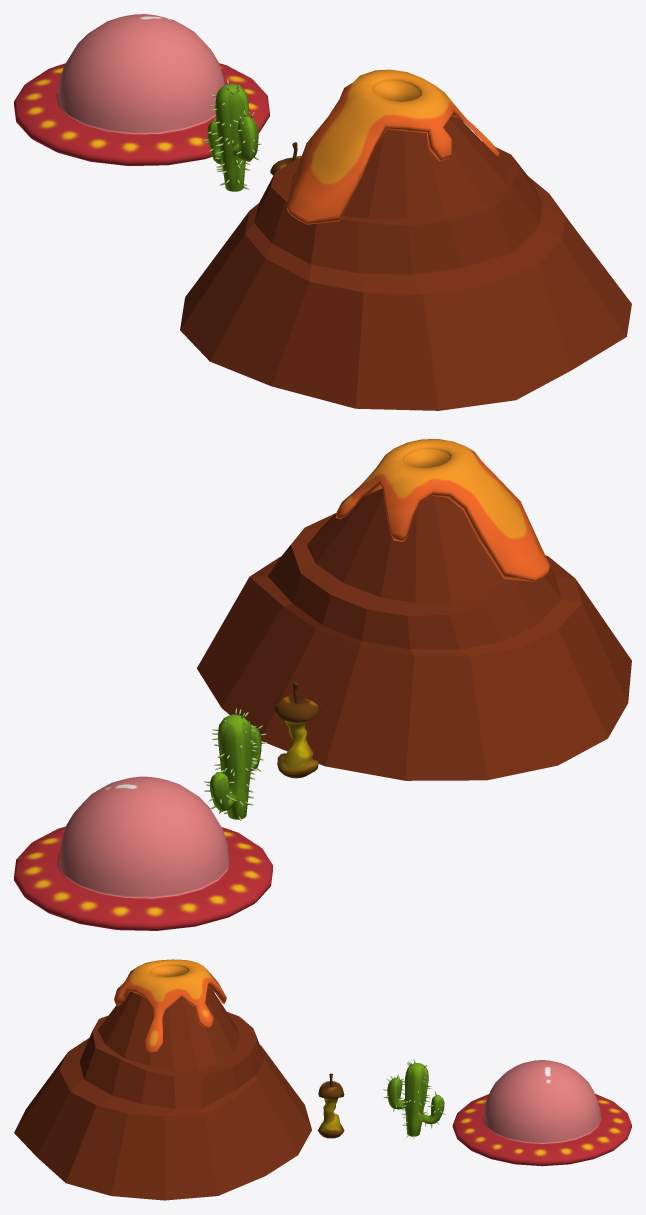
File: Volcano-catus-ufo-apple.fbx
3 renders of one model, top to bottom at view 1: azimuth 30°, elevation 25°; view 2: azimuth 150°, elevation 25°; view 3: azimuth 270°, elevation 25°, orthographic. The views are drawn at different scales.
Visible parts, largest first — view 1: Volcano, Ufo, Cylinder.002, Cactus; view 2: Volcano, Ufo, Cylinder.002, Cactus, Rotten Apple; view 3: Volcano, Ufo, Cylinder.002, Cactus, Rotten Apple.
Boxes of the visible parts, bbox=[...] form: Volcano: bbox=[180, 116, 631, 410]; Ufo: bbox=[14, 14, 269, 165]; Cylinder.002: bbox=[287, 69, 499, 224]; Cactus: bbox=[202, 79, 261, 191]; Volcano: bbox=[197, 488, 631, 780]; Ufo: bbox=[14, 776, 272, 930]; Cylinder.002: bbox=[335, 439, 549, 581]; Cactus: bbox=[204, 708, 266, 820]; Rotten Apple: bbox=[274, 682, 320, 778]; Volcano: bbox=[14, 987, 311, 1200]; Ufo: bbox=[452, 1060, 631, 1166]; Cylinder.002: bbox=[114, 959, 226, 1053]; Cactus: bbox=[383, 1059, 445, 1138]; Rotten Apple: bbox=[317, 1073, 344, 1138].
Bounding box in the file's own units: 1281 × 753 × 2531.
4 materials, 4 textured.
